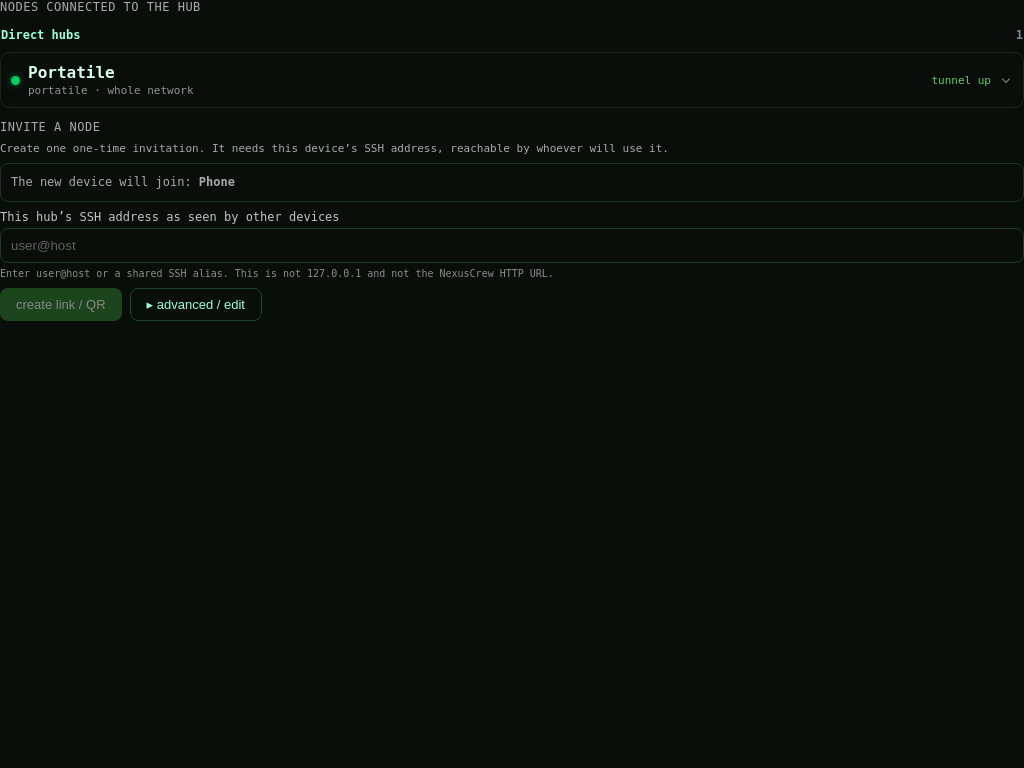
Test: riga → foglio › Esc chiude il foglio
Step 1. Click the button with class "nc-node-row" → (71, 72), box [0,52,1023,108]
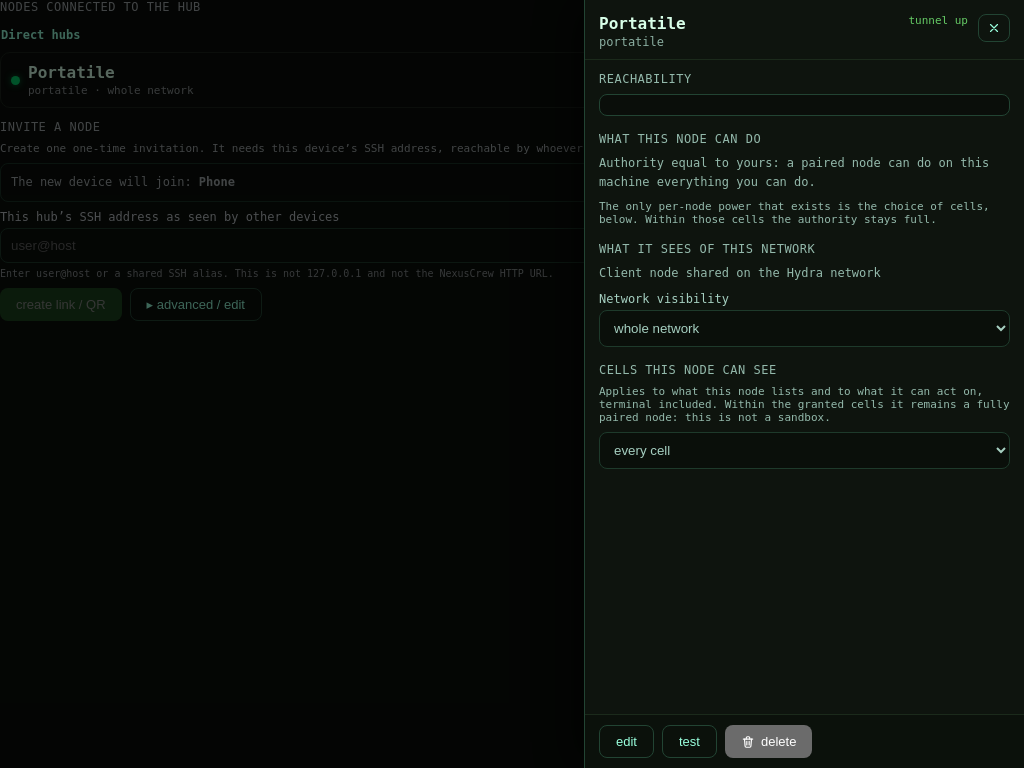
Expected: the dialog is shown, [584,0,1023,767]
Step 2. Press Escape
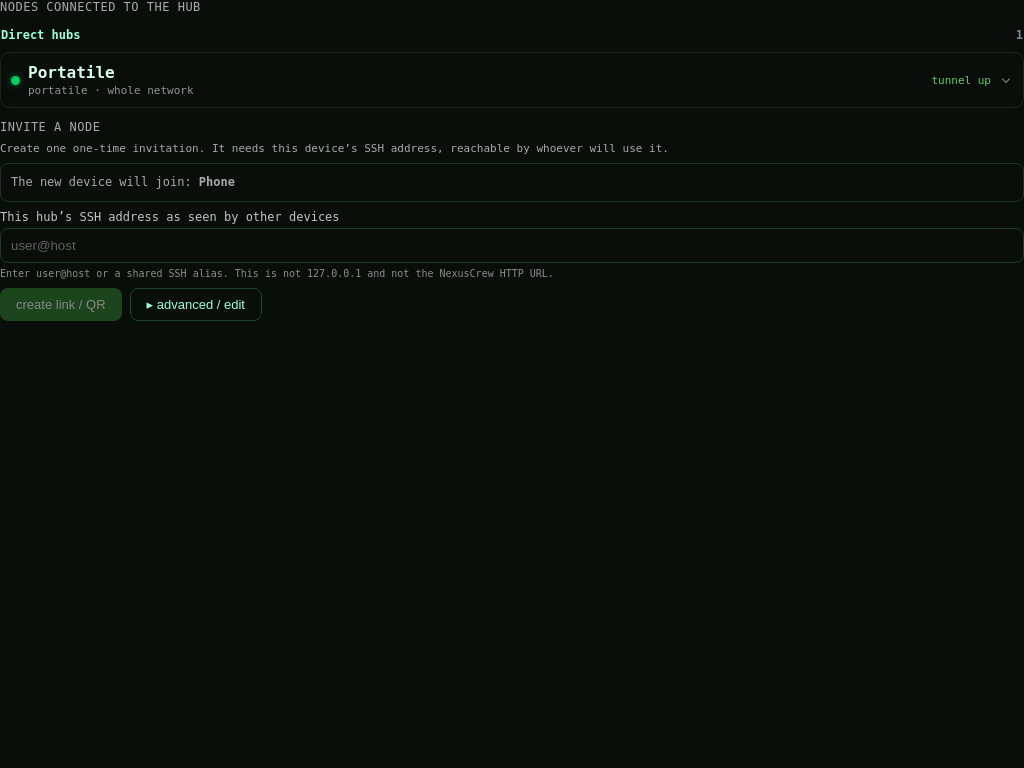
Expected: the dialog is gone
